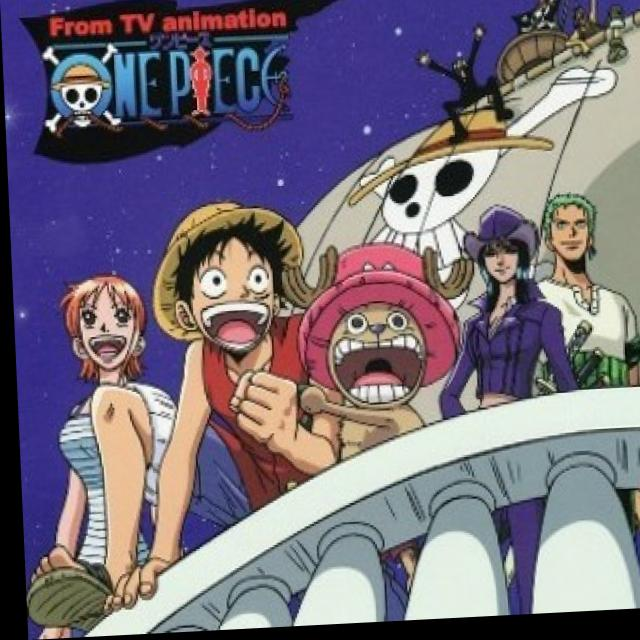Chyopa: (277, 235, 482, 463)
Luffy: (155, 193, 303, 367)
Nami: (51, 260, 162, 389)
NicoRobin: (449, 189, 548, 304)
Zoro: (533, 193, 611, 291)
